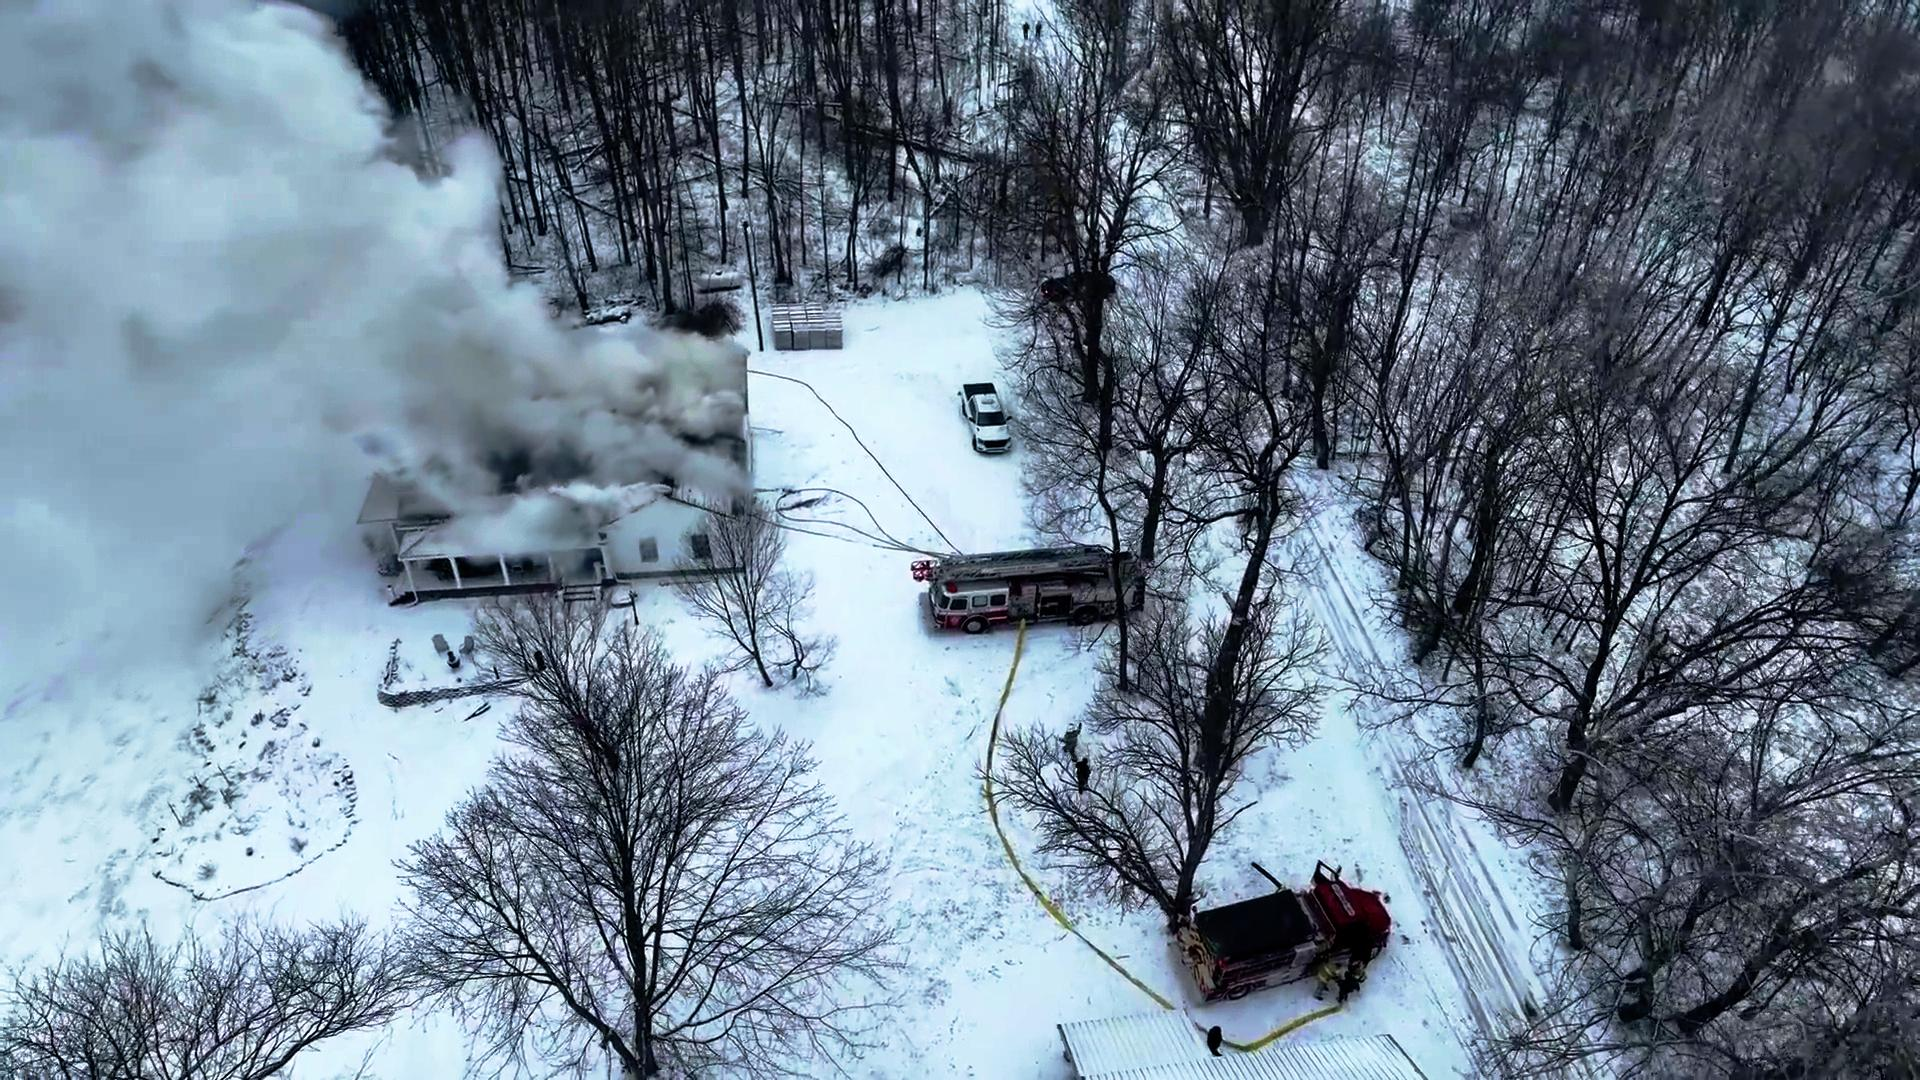smoke: (107, 157, 505, 410)
